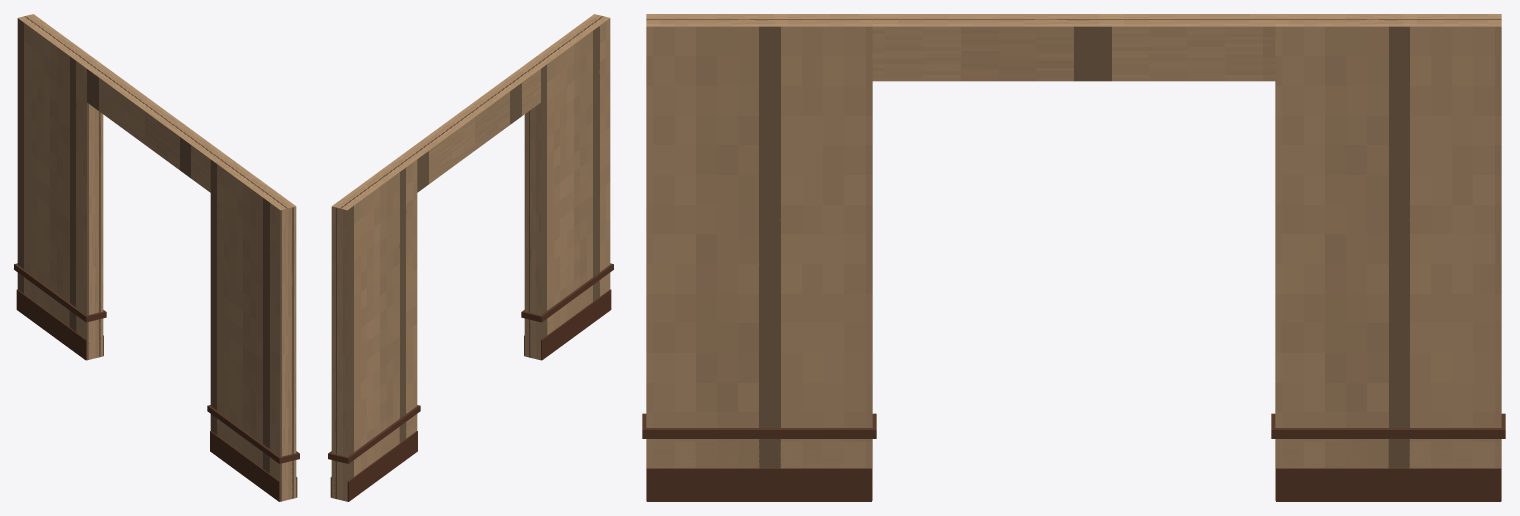
Rendered from living_dining.glb.
The picture shows the model from 3 angles, left to right: view 1: azimuth 30°, elevation 25°; view 2: azimuth 150°, elevation 25°; view 3: azimuth 270°, elevation 25°; orthographic projection. The views are drawn at different scales.
Parts seen in each view (by area): view 1: Box3, Box1, Box5, Box4, Box2, Box6, Box8, Box9, Box7; view 2: Box1, Box3, Box5, Box2, Box4, Box6, Box8, Box7, Box9; view 3: Box3, Box1, Box5, Box2, Box4, Box8, Box6, Box7, Box9.
Boxes of the visible parts, bbox=[...] form: Box3: bbox=[210, 155, 296, 501]; Box1: bbox=[17, 14, 103, 360]; Box5: bbox=[87, 65, 226, 192]; Box4: bbox=[210, 431, 297, 501]; Box2: bbox=[16, 289, 103, 360]; Box6: bbox=[18, 282, 103, 359]; Box8: bbox=[210, 414, 296, 501]; Box9: bbox=[207, 405, 299, 463]; Box7: bbox=[14, 263, 106, 322]; Box1: bbox=[331, 155, 417, 501]; Box3: bbox=[524, 14, 610, 360]; Box5: bbox=[401, 65, 540, 192]; Box2: bbox=[330, 431, 417, 501]; Box4: bbox=[524, 289, 611, 360]; Box6: bbox=[331, 414, 417, 501]; Box8: bbox=[524, 284, 606, 359]; Box7: bbox=[328, 405, 420, 463]; Box9: bbox=[521, 263, 613, 322]; Box3: bbox=[646, 14, 872, 500]; Box1: bbox=[1275, 14, 1501, 500]; Box5: bbox=[872, 14, 1275, 81]; Box2: bbox=[1276, 468, 1501, 501]; Box4: bbox=[646, 468, 871, 501]; Box8: bbox=[646, 439, 872, 498]; Box6: bbox=[1275, 439, 1501, 500]; Box7: bbox=[1271, 413, 1505, 438]; Box9: bbox=[642, 413, 876, 438].
Bounding box in the file's own units: 0.19 × 2.6 × 4.29.
2 materials, 1 textured.
